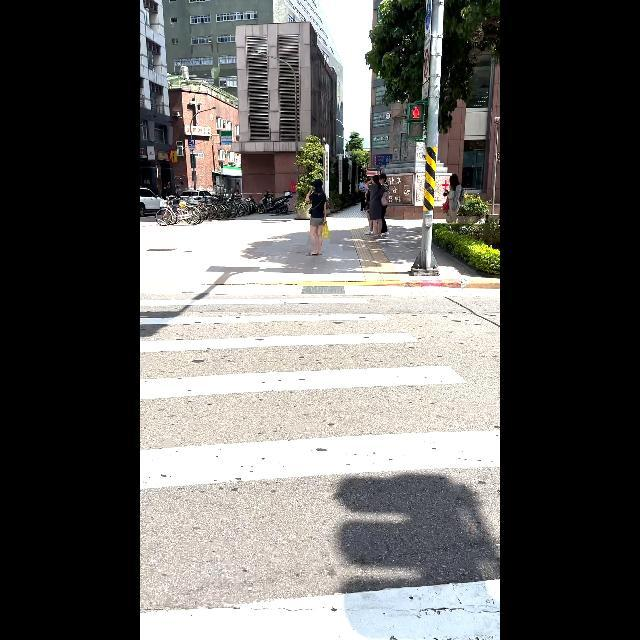sidewalk: (140, 280, 500, 640)
